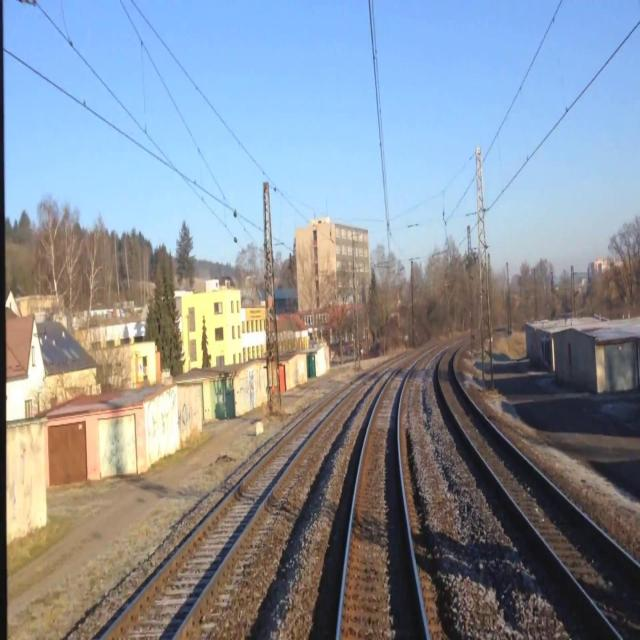rail-track: (104, 383, 356, 639), (440, 339, 640, 639), (340, 359, 425, 639)
